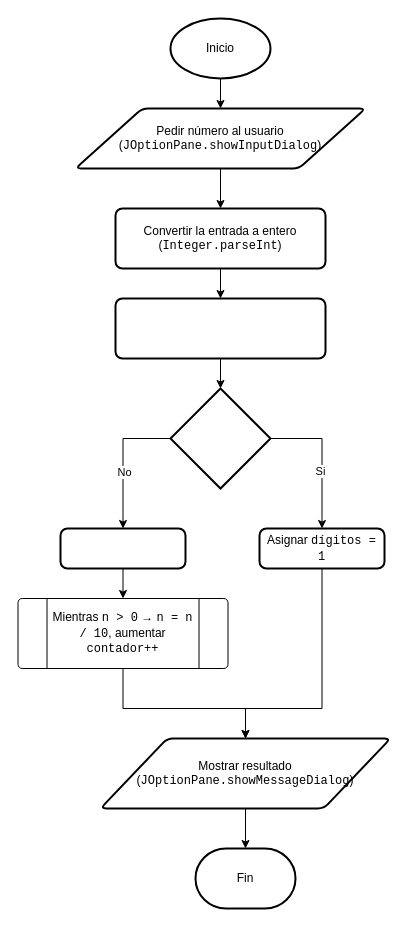
Image size: 408x926. Some labels were removed from this diagram. Each missing label, with the centre of its shape:
"Iniciar contador = 0" belongs at (122,548).
"Tomar valor absoluto del número ( Math.abs )" belongs at (220,328).
"¿El número es igual a 0?" belongs at (220,438).
